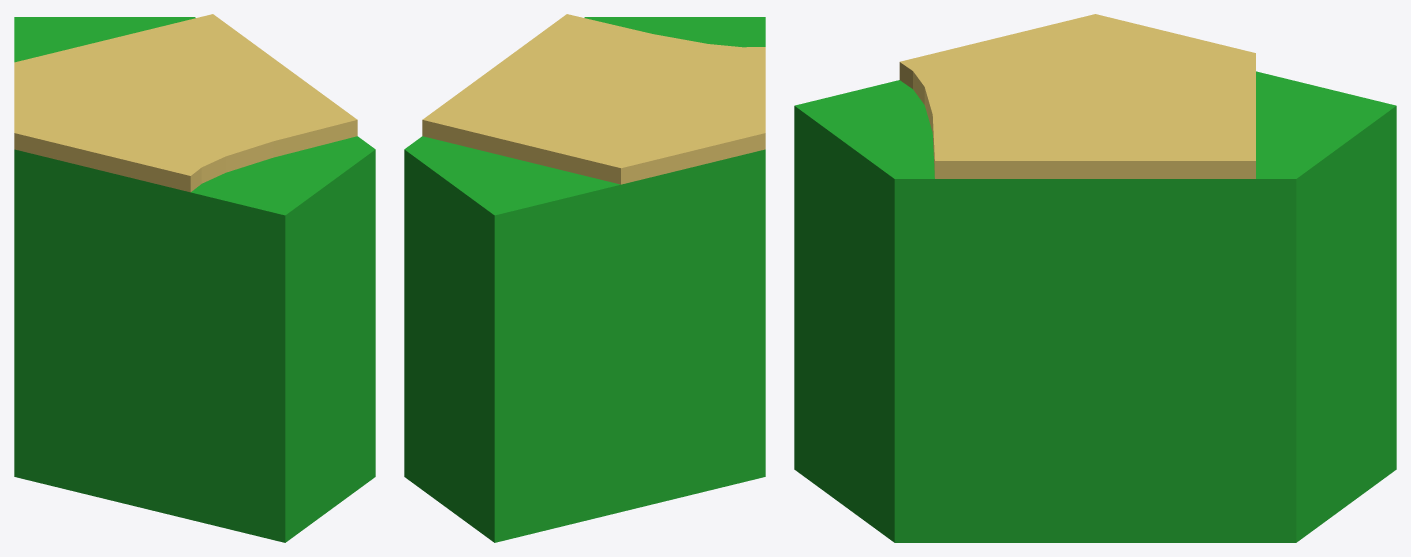
File: module-corner_land_path_left_002.glb
3 renders of one model, left to right at view 1: azimuth 30°, elevation 25°; view 2: azimuth 150°, elevation 25°; view 3: azimuth 270°, elevation 25°, orthographic. The views are drawn at different scales.
Parts seen in each view (by area): view 1: module-corner_land_path_left_002; view 2: module-corner_land_path_left_002; view 3: module-corner_land_path_left_002.
Part boxes in pixels (x1,y1,x2,y2): module-corner_land_path_left_002: (14, 14, 375, 542); module-corner_land_path_left_002: (404, 14, 765, 542); module-corner_land_path_left_002: (794, 14, 1396, 542).
Size of the model in its own units: 0.433 by 0.525 by 0.75.
